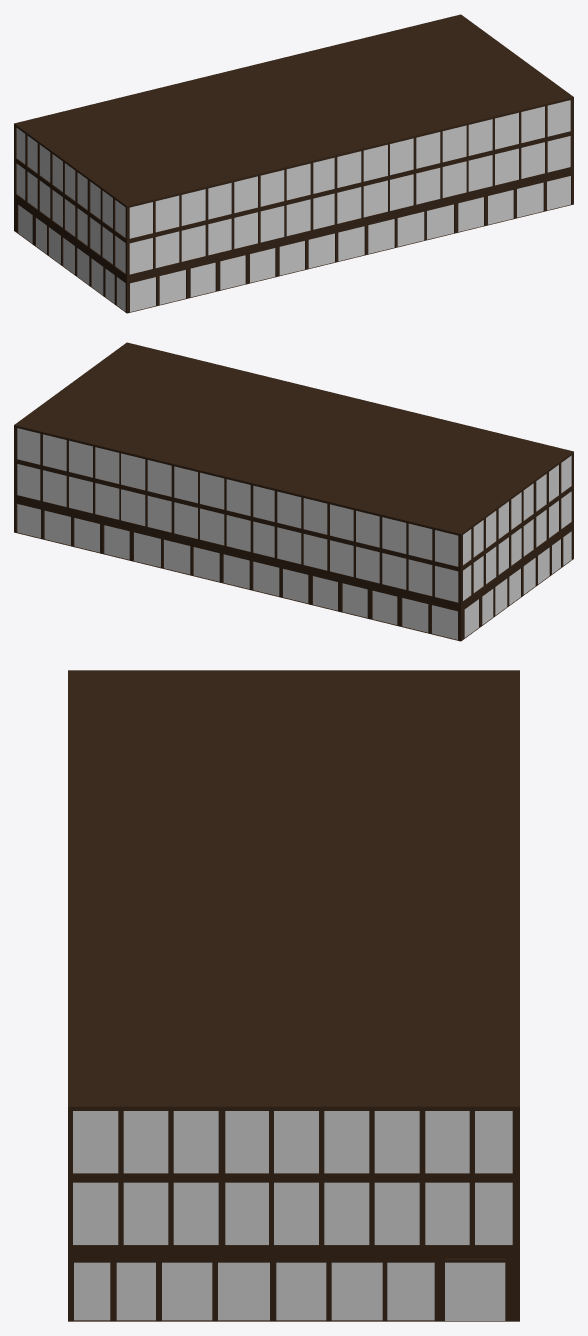
File: building5.fbx
3 views of the same model, one above another, from view 1: azimuth 30°, elevation 25°; view 2: azimuth 150°, elevation 25°; view 3: azimuth 270°, elevation 25° (orthographic). The views are drawn at different scales.
Visible parts, largest first — view 1: Cube.063; view 2: Cube.063; view 3: Cube.063.
Boxes of the visible parts, x1=… form: Cube.063: x1=14, y1=14, x2=573, y2=313; Cube.063: x1=14, y1=342, x2=573, y2=641; Cube.063: x1=68, y1=670, x2=519, y2=1321.
Bounding box in the file's own units: 8940 × 2053 × 3913.
